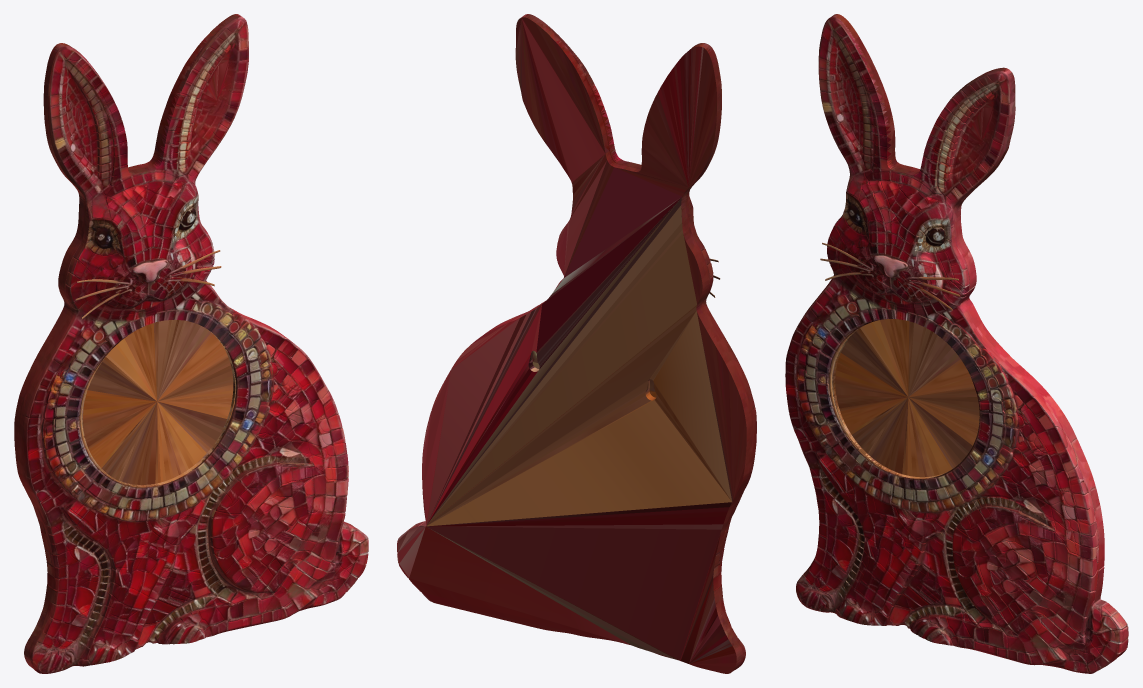
The model's file is H43-web.glb.
3 renders of one model, left to right at view 1: azimuth 30°, elevation 25°; view 2: azimuth 150°, elevation 25°; view 3: azimuth 330°, elevation 25°, orthographic. The views are drawn at different scales.
Visible parts, largest first — view 1: geometry_0; view 2: geometry_0; view 3: geometry_0.
Part boxes in pixels (left/top/right/bottom): geometry_0: left=14, top=14, right=368, bottom=673; geometry_0: left=397, top=14, right=756, bottom=673; geometry_0: left=785, top=14, right=1128, bottom=673.
Size of the model in its own units: 0.3533 by 0.6 by 0.0354.
Materials: 1 (1 with a texture image).
